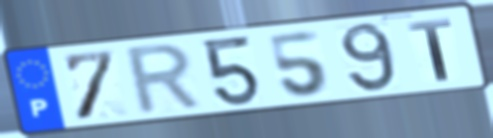5: (265, 27, 331, 99), (197, 35, 262, 108)
7: (62, 48, 120, 123)
9: (336, 21, 399, 94)
R: (124, 40, 207, 119)
T: (405, 16, 455, 83)
